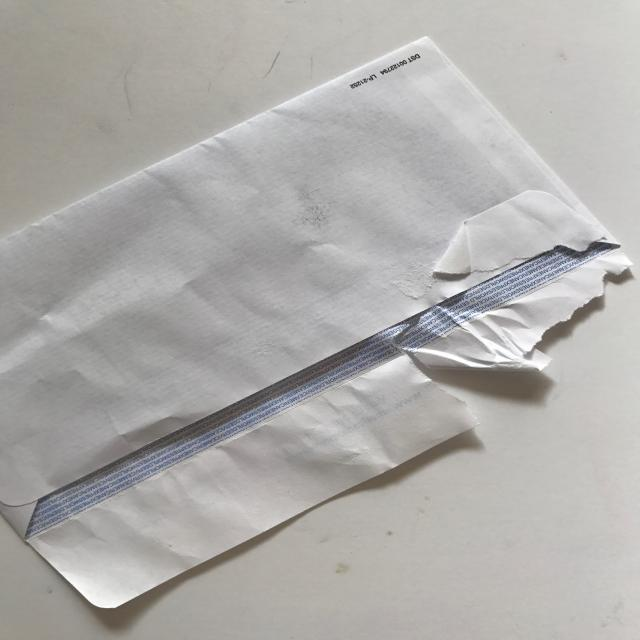paper: (3, 33, 638, 613)
